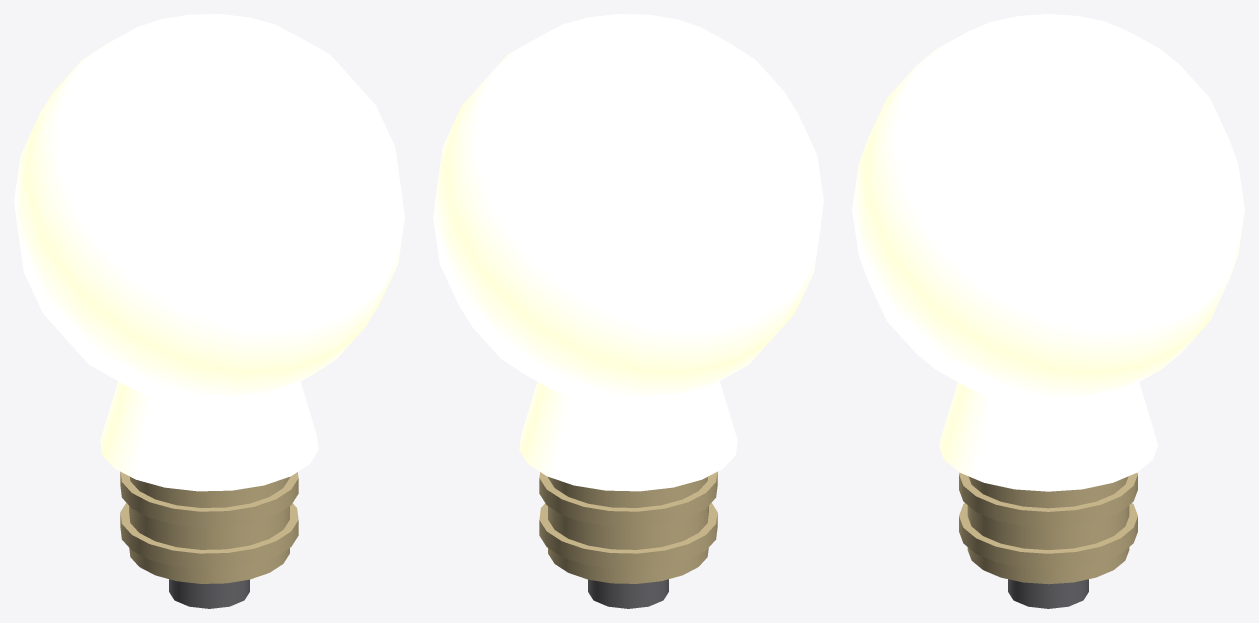
The model's file is prop-bulb.glb.
The picture shows the model from 3 angles, left to right: view 1: azimuth 30°, elevation 25°; view 2: azimuth 150°, elevation 25°; view 3: azimuth 270°, elevation 25°; orthographic projection.
Visible parts, largest first — view 1: bulb_globe, bulb_neck, bulb_screw, bulb_thread, bulb_thread.001, bulb_contact; view 2: bulb_globe, bulb_neck, bulb_screw, bulb_thread, bulb_thread.001, bulb_contact; view 3: bulb_globe, bulb_neck, bulb_screw, bulb_thread, bulb_thread.001, bulb_contact.
Part boxes in pixels (x1,y1,x2,y2): bulb_globe: [14, 14, 404, 404]; bulb_neck: [100, 381, 318, 491]; bulb_screw: [129, 476, 289, 583]; bulb_thread: [120, 503, 298, 569]; bulb_thread.001: [120, 471, 298, 527]; bulb_contact: [169, 579, 249, 608]; bulb_globe: [433, 14, 823, 404]; bulb_neck: [519, 381, 737, 491]; bulb_screw: [548, 476, 708, 583]; bulb_thread: [539, 503, 717, 569]; bulb_thread.001: [539, 471, 717, 527]; bulb_contact: [588, 579, 668, 608]; bulb_globe: [852, 14, 1244, 405]; bulb_neck: [938, 382, 1158, 491]; bulb_screw: [967, 476, 1129, 584]; bulb_thread: [959, 503, 1137, 569]; bulb_thread.001: [959, 472, 1137, 527]; bulb_contact: [1008, 579, 1088, 608].
Bounding box in the file's own units: 0.68 × 1.07 × 0.68.
